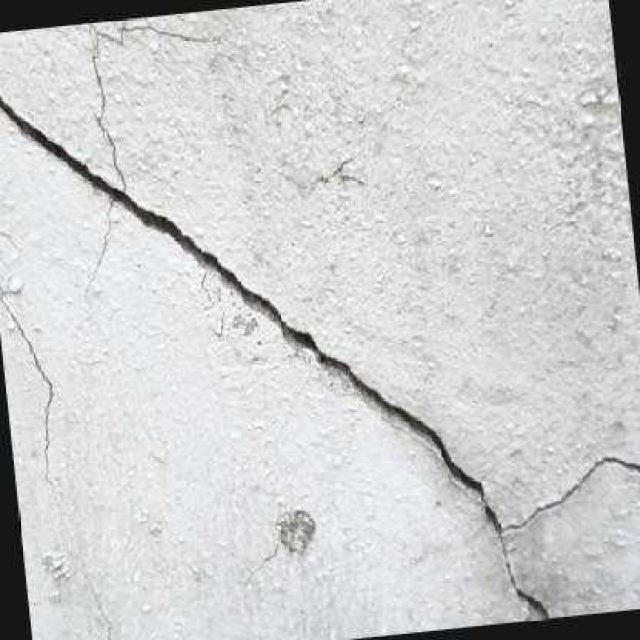D00: (0, 91, 640, 620)
